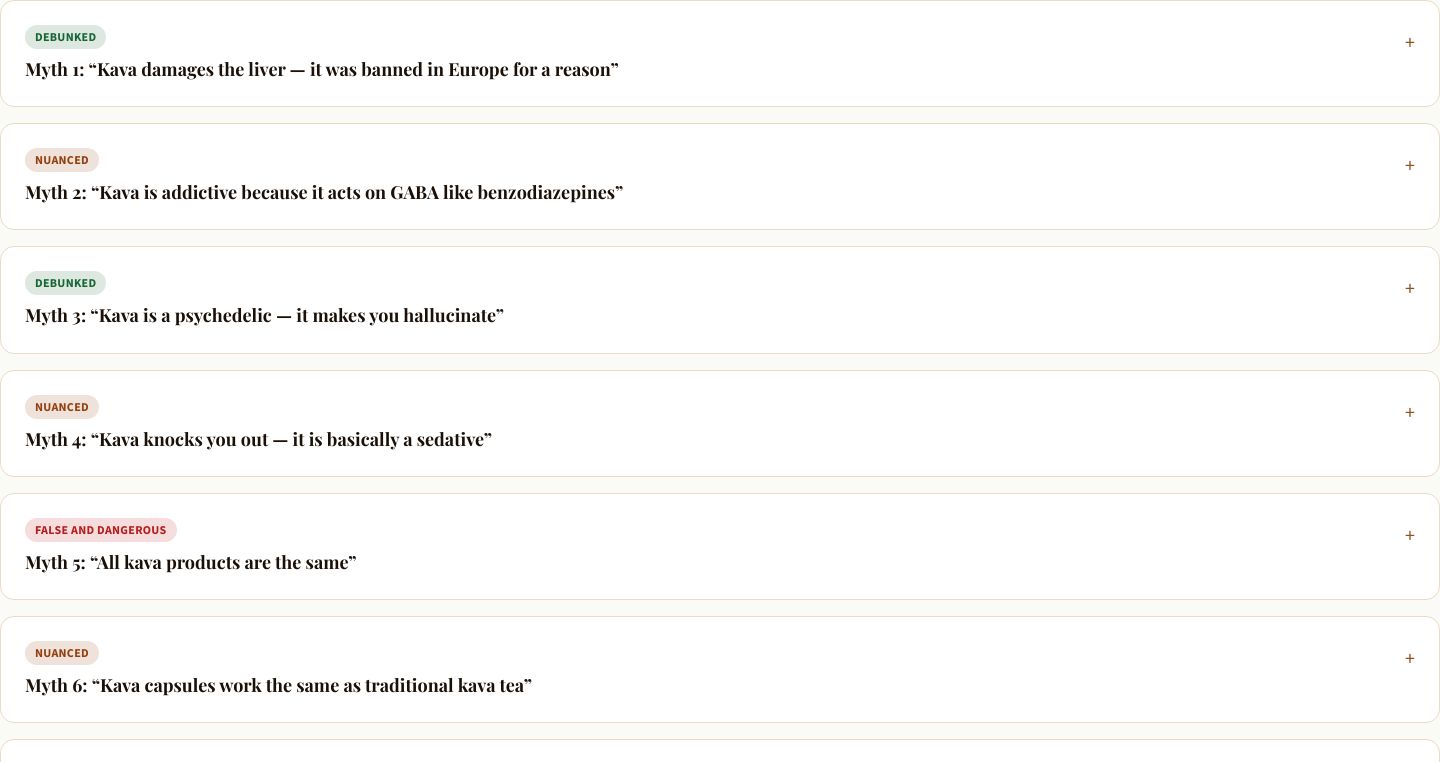
MythsExplorer › opens one myth's evidence at a time and closes it again
Click the button "Kava damages the liver": (322, 70) [25,57,619,82]
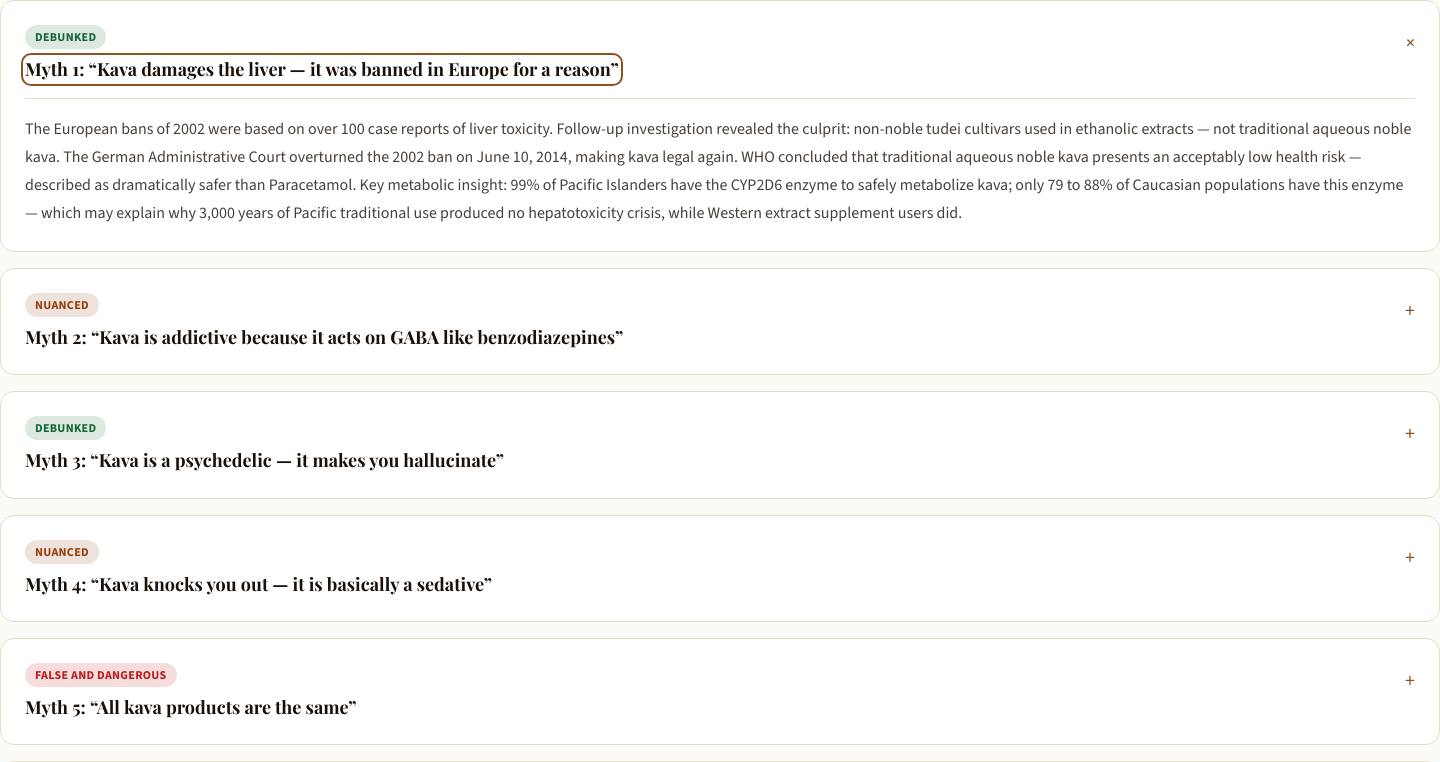
Check: the text "German Administrative Court overturned the 2002 ban on June 10, 2014" is shown, box [25,118,1411,223]
Click the button "Myth 3: “Kava is a psychedelic — it makes you hallucinate”": (265, 461) [25,448,504,474]
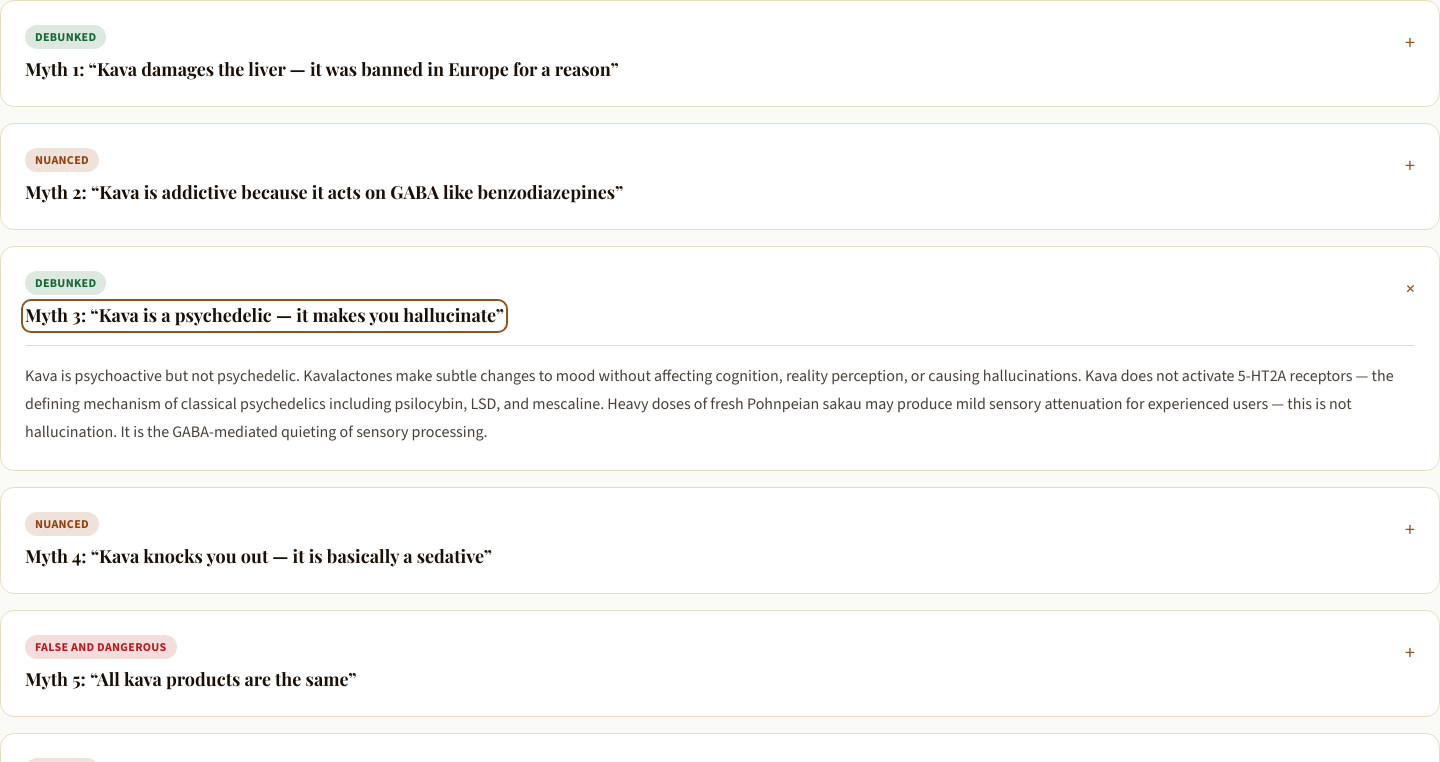
Check: the text "German Administrative Court" is gone
Check: the text "Kava is psychoactive but not psychedelic" is shown, box [25,365,1394,442]
Click the button "Myth 3: “Kava is a psychedelic — it makes you hallucinate”": (265, 316) [25,303,504,329]
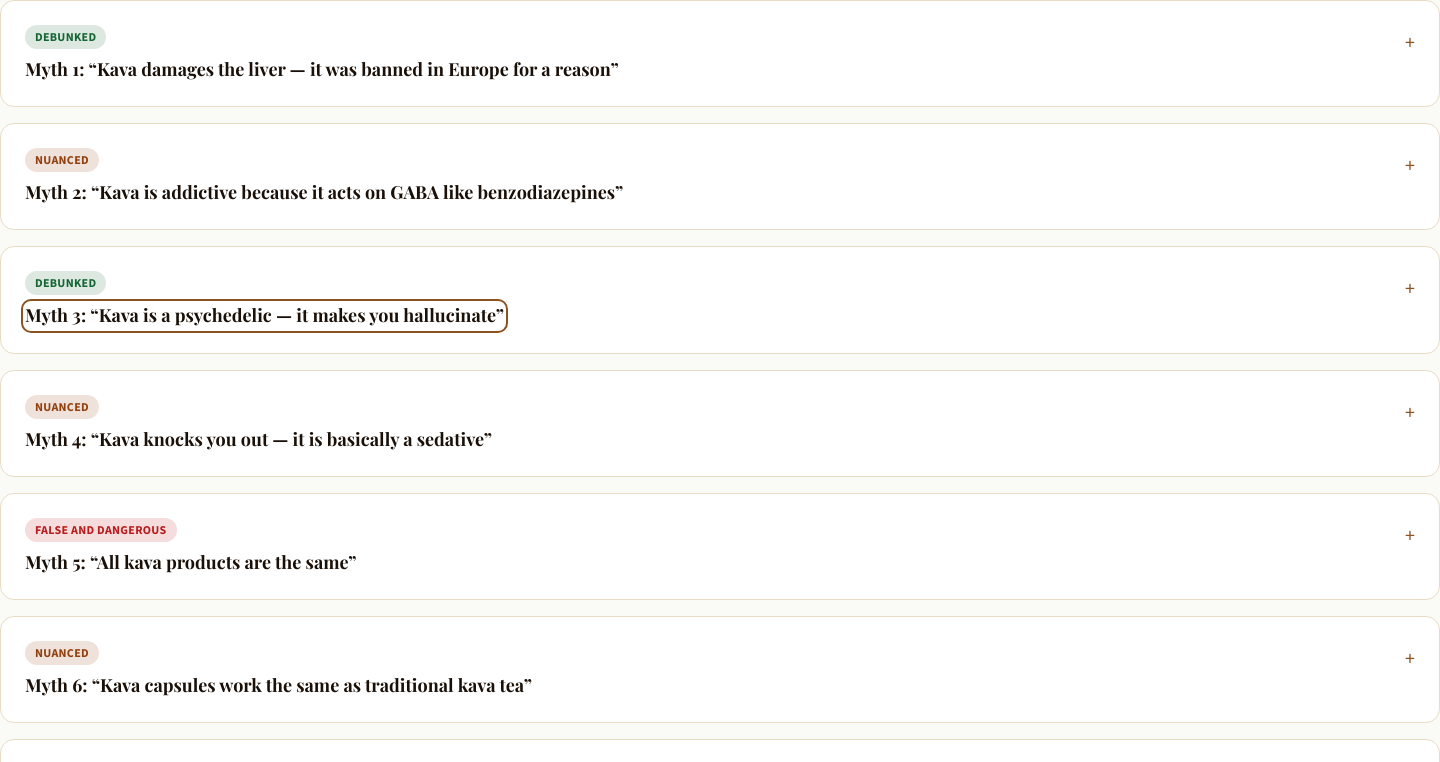
Check: the text "Kava is psychoactive but not psychedelic" is gone
